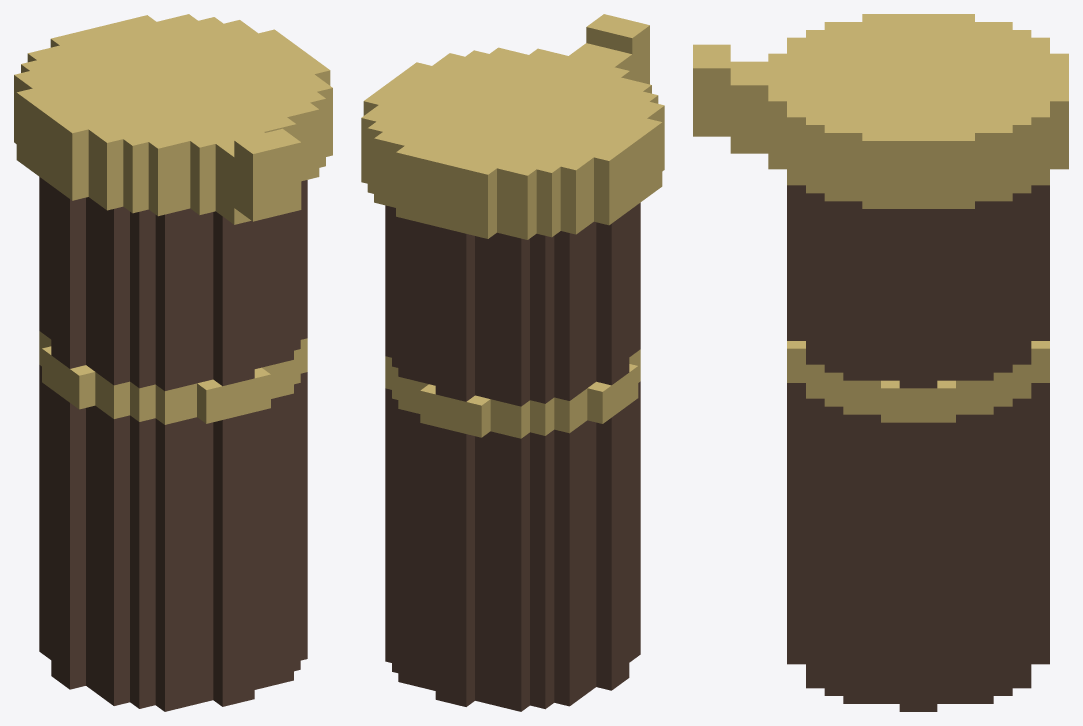
File: leather_epic_boot_shin_L.glb
3 views of the same model, side by side, from view 1: azimuth 30°, elevation 25°; view 2: azimuth 150°, elevation 25°; view 3: azimuth 270°, elevation 25° (orthographic). The views are drawn at different scales.
Visible parts, largest first — view 1: leather_epic_boot_shin_L; view 2: leather_epic_boot_shin_L; view 3: leather_epic_boot_shin_L.
Part boxes in pixels (x1,y1,x2,y2): leather_epic_boot_shin_L: [14, 14, 332, 711]; leather_epic_boot_shin_L: [361, 14, 664, 711]; leather_epic_boot_shin_L: [693, 14, 1068, 711].
Bounding box in the file's own units: 0.192 × 0.42 × 0.24.
